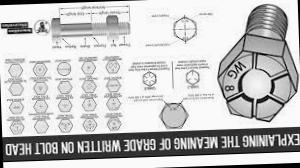hexagonal: (216, 32, 300, 124)
